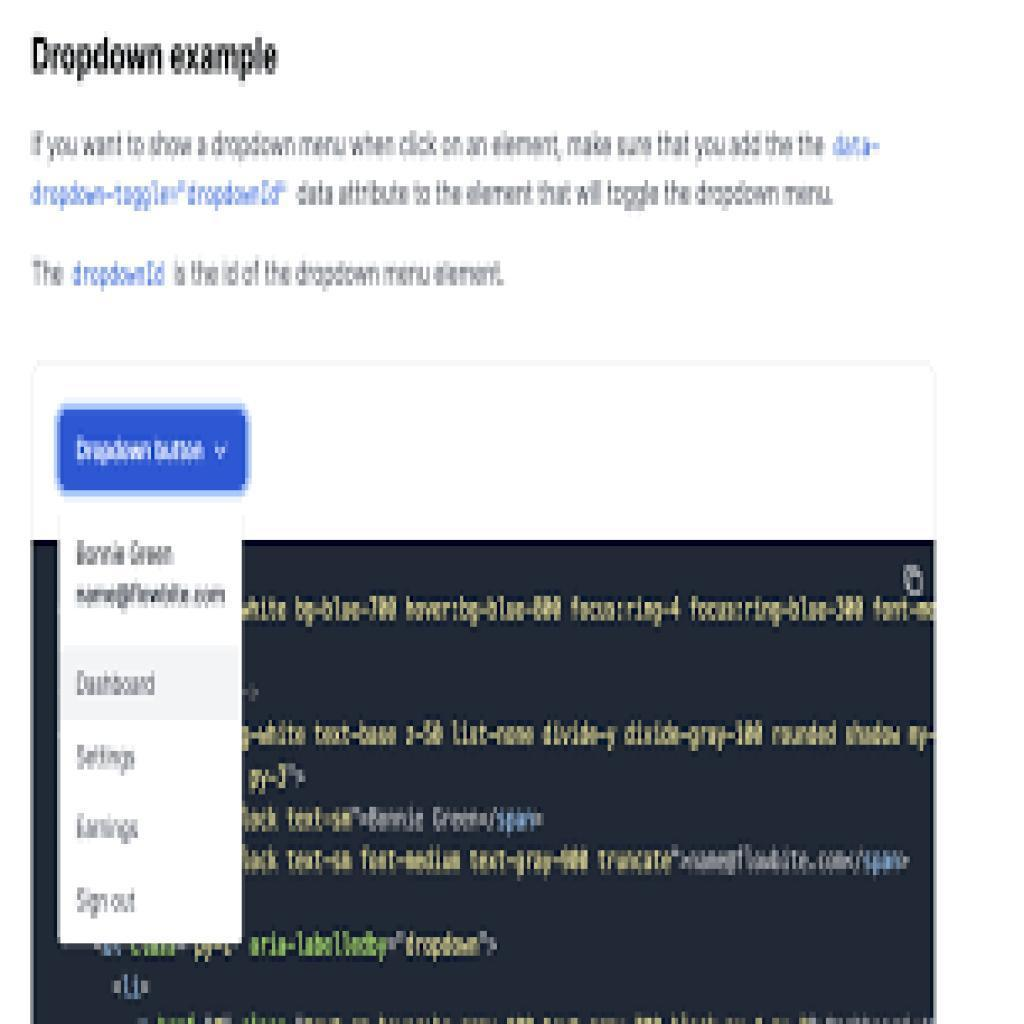dropdown: (61, 409, 248, 491)
